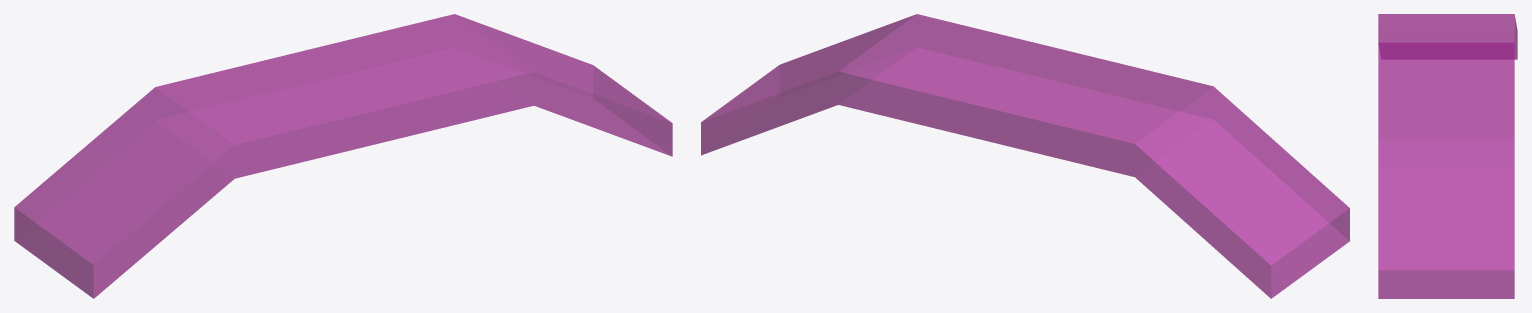
File: SM_Bld_Walkway_04_Collision.fbx
3 renders of one model, left to right at view 1: azimuth 30°, elevation 25°; view 2: azimuth 150°, elevation 25°; view 3: azimuth 270°, elevation 25°, orthographic. The views are drawn at different scales.
Visible parts, largest first — view 1: SM_Bld_Walkway_04_Collision; view 2: SM_Bld_Walkway_04_Collision; view 3: SM_Bld_Walkway_04_Collision.
Boxes of the visible parts, x1,y1,x2,y2 form: SM_Bld_Walkway_04_Collision: (14, 14, 672, 298); SM_Bld_Walkway_04_Collision: (701, 14, 1349, 298); SM_Bld_Walkway_04_Collision: (1378, 14, 1517, 298).
Bounding box in the file's own units: 402 × 80.55 × 97.85.
